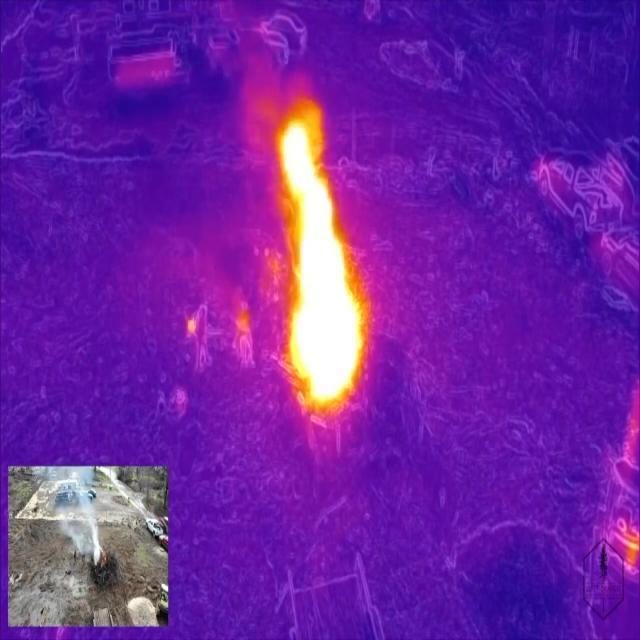fire: (271, 101, 370, 412)
